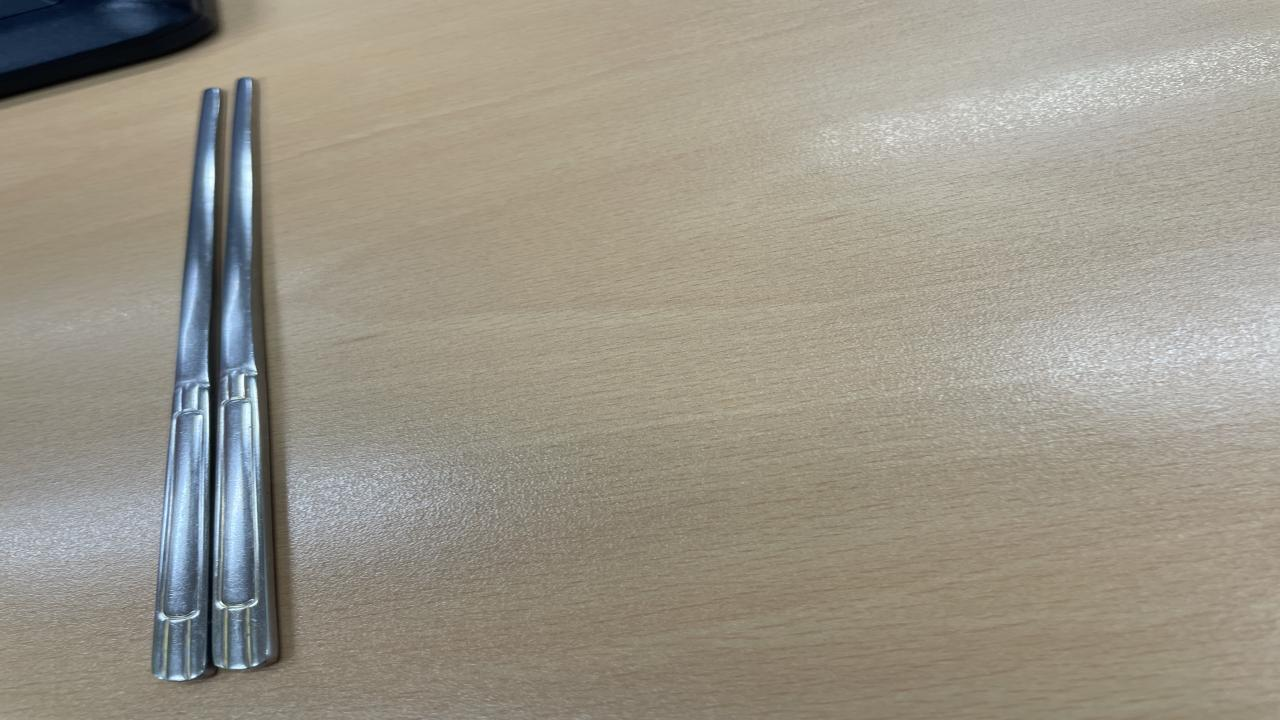chopstick: (146, 78, 284, 686)
